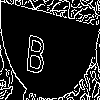B: (25, 25, 48, 75)
